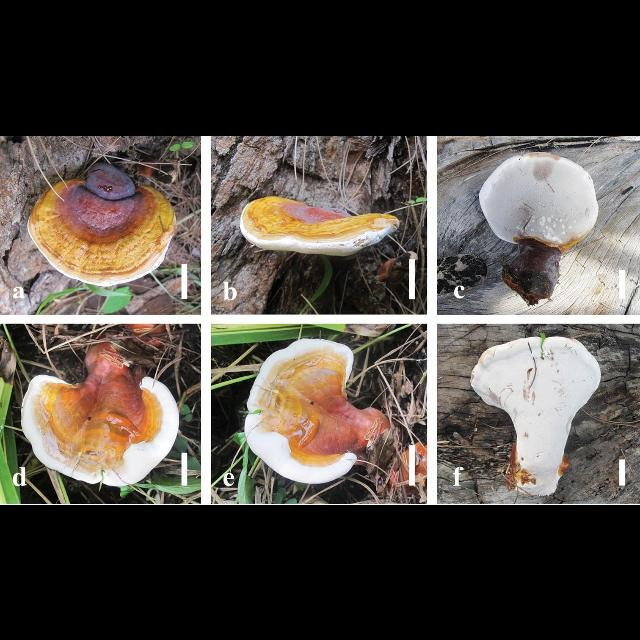ganoderma: (20, 371, 182, 489), (244, 338, 361, 486), (27, 178, 179, 289), (241, 196, 403, 257)
primordium: (479, 152, 602, 255), (471, 336, 604, 418)
